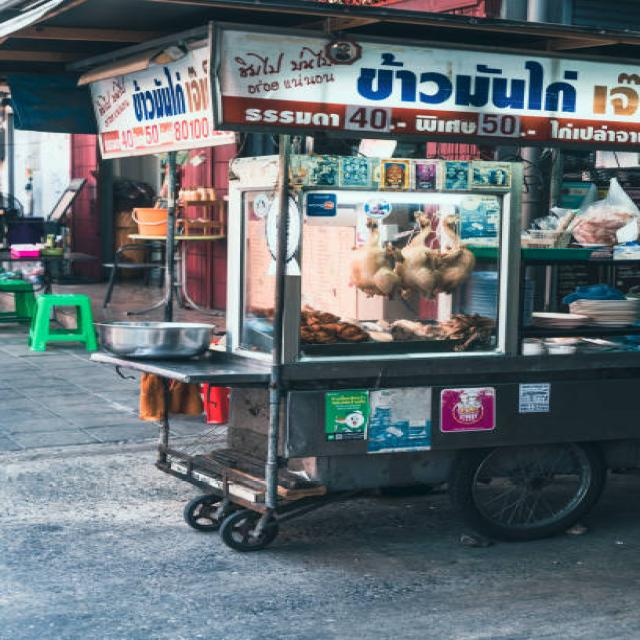Emperan: (83, 135, 640, 571)
